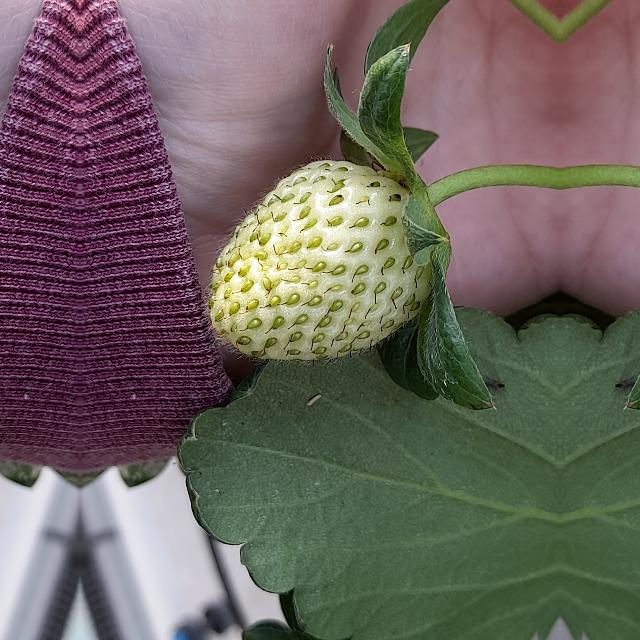Health_25: (202, 154, 432, 370)
